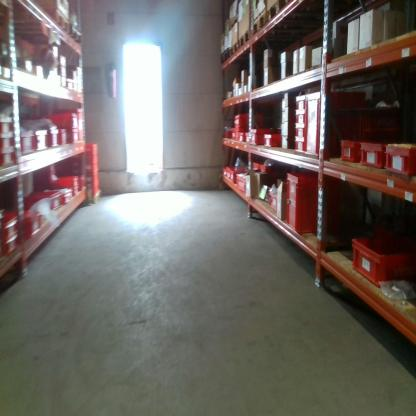pallet: (6, 11, 71, 39), (266, 1, 297, 25), (251, 11, 268, 38), (238, 26, 250, 51), (220, 46, 229, 70), (230, 38, 238, 59), (230, 15, 240, 31)
small_load_carrier: (303, 89, 366, 159), (348, 229, 415, 291), (284, 168, 339, 239), (54, 107, 86, 147), (384, 141, 416, 179), (21, 189, 63, 215), (360, 142, 385, 168), (336, 136, 358, 164), (44, 114, 79, 131), (45, 127, 68, 151), (236, 173, 261, 195), (0, 213, 19, 241), (251, 127, 277, 147), (24, 211, 42, 238), (20, 130, 36, 159), (1, 145, 17, 173), (232, 114, 261, 129), (34, 128, 50, 155), (53, 173, 79, 189), (5, 233, 21, 258), (0, 133, 16, 156), (1, 117, 15, 139), (264, 133, 280, 148), (293, 94, 307, 110), (294, 110, 307, 125), (295, 137, 306, 153), (63, 188, 71, 208), (87, 173, 99, 185), (78, 172, 86, 189), (229, 169, 238, 184), (294, 125, 306, 136), (69, 131, 79, 144), (87, 185, 99, 195), (234, 130, 244, 141), (86, 164, 97, 173), (88, 154, 98, 162), (245, 132, 251, 144), (239, 133, 245, 141), (75, 184, 79, 193)
